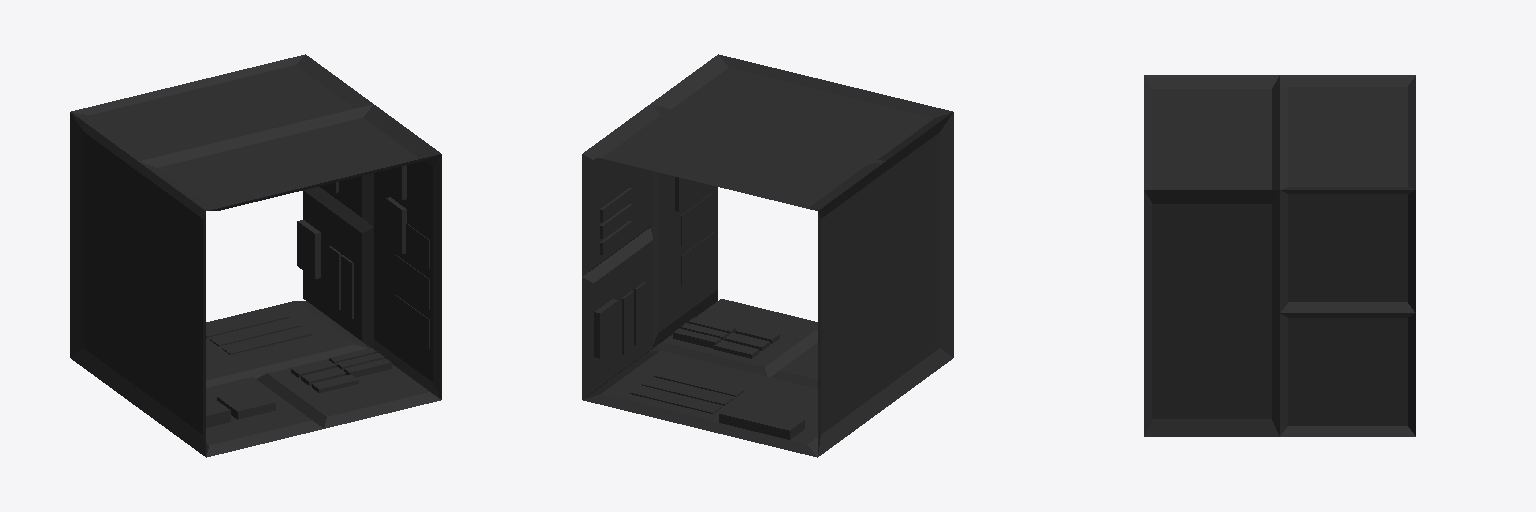
The picture shows the model from 3 angles: view 1: azimuth 30°, elevation 25°; view 2: azimuth 150°, elevation 25°; view 3: azimuth 270°, elevation 25°; orthographic projection.
Parts seen in each view (by area): view 1: tunnel; view 2: tunnel; view 3: tunnel.
Boxes of the visible parts, <box> form: tunnel: <box>70,54,441,457</box>; tunnel: <box>582,54,953,457</box>; tunnel: <box>1144,75,1415,436</box>.
Size of the model in its own units: 15.56 by 15.56 by 15.56.
1 materials, 1 textured.